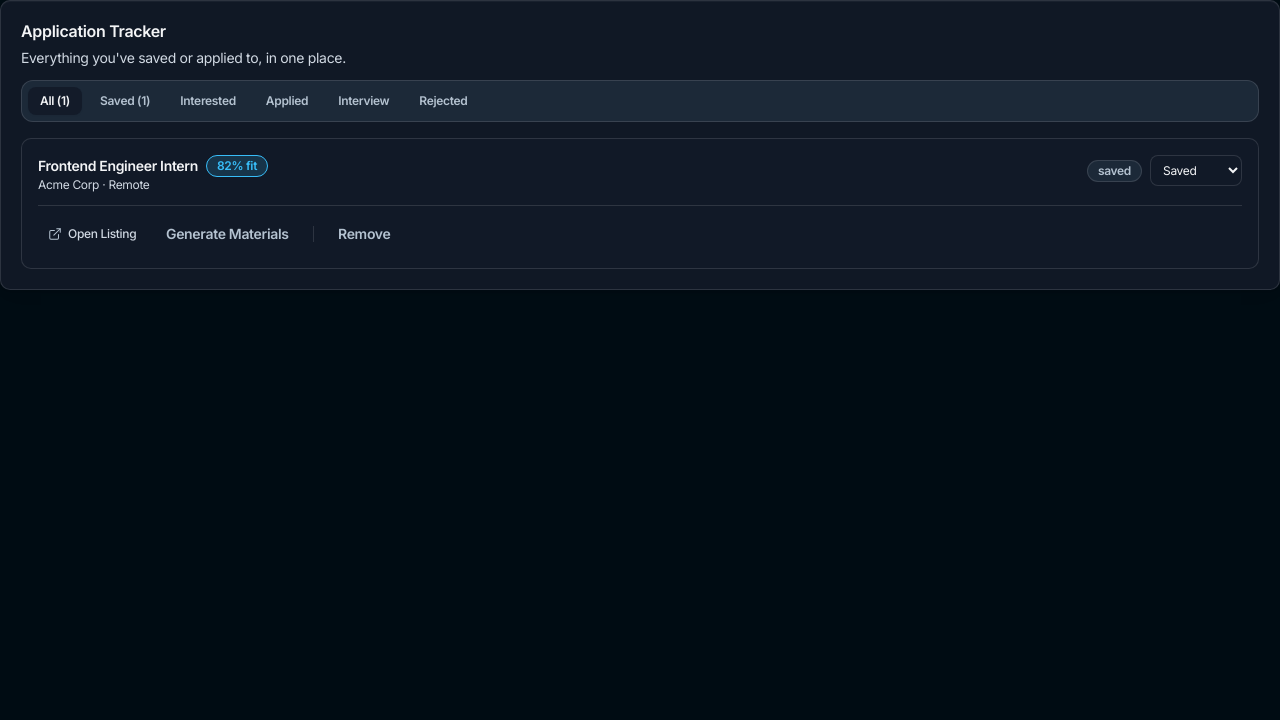
JobAgentTrackerPage › generating materials fetches them, expands the editor, and pre-fills the drafts
Expected: the text "Frontend Engineer Intern" is shown, [38,156,198,176]
Step 1. Click the button "Generate Materials" → click(228, 234), box [150,216,305,252]
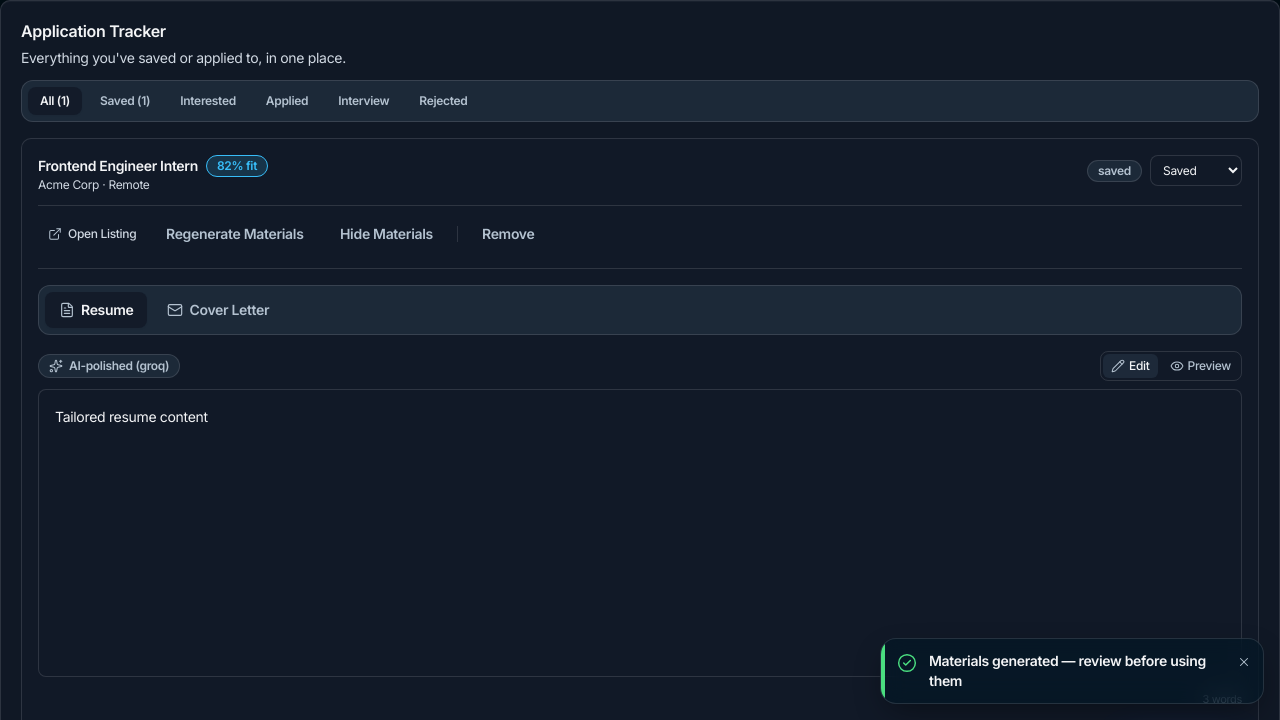
Expected: the text box showing "Tailored resume content" is shown, [38,389,1242,677]
Expected: the text "AI-polished (groq)" is shown, [38,354,180,378]
Step 2. Click the tab "Cover Letter" → click(218, 310), box [154,292,283,328]
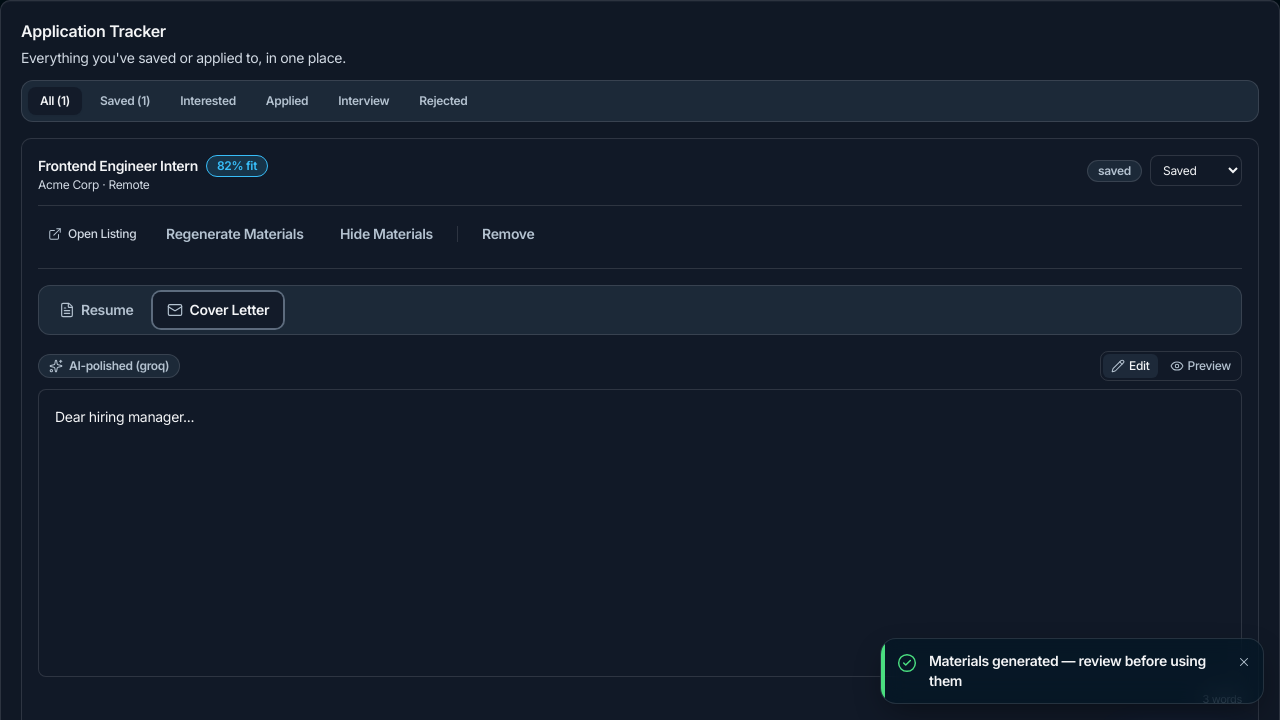
Expected: the text "AI-polished (groq)" is shown, [38,354,180,378]
Expected: the text "Materials generated — review before using them" is shown, [929,651,1227,691]
Expected: the text box showing "Dear hiring manager..." is shown, [38,389,1242,677]
